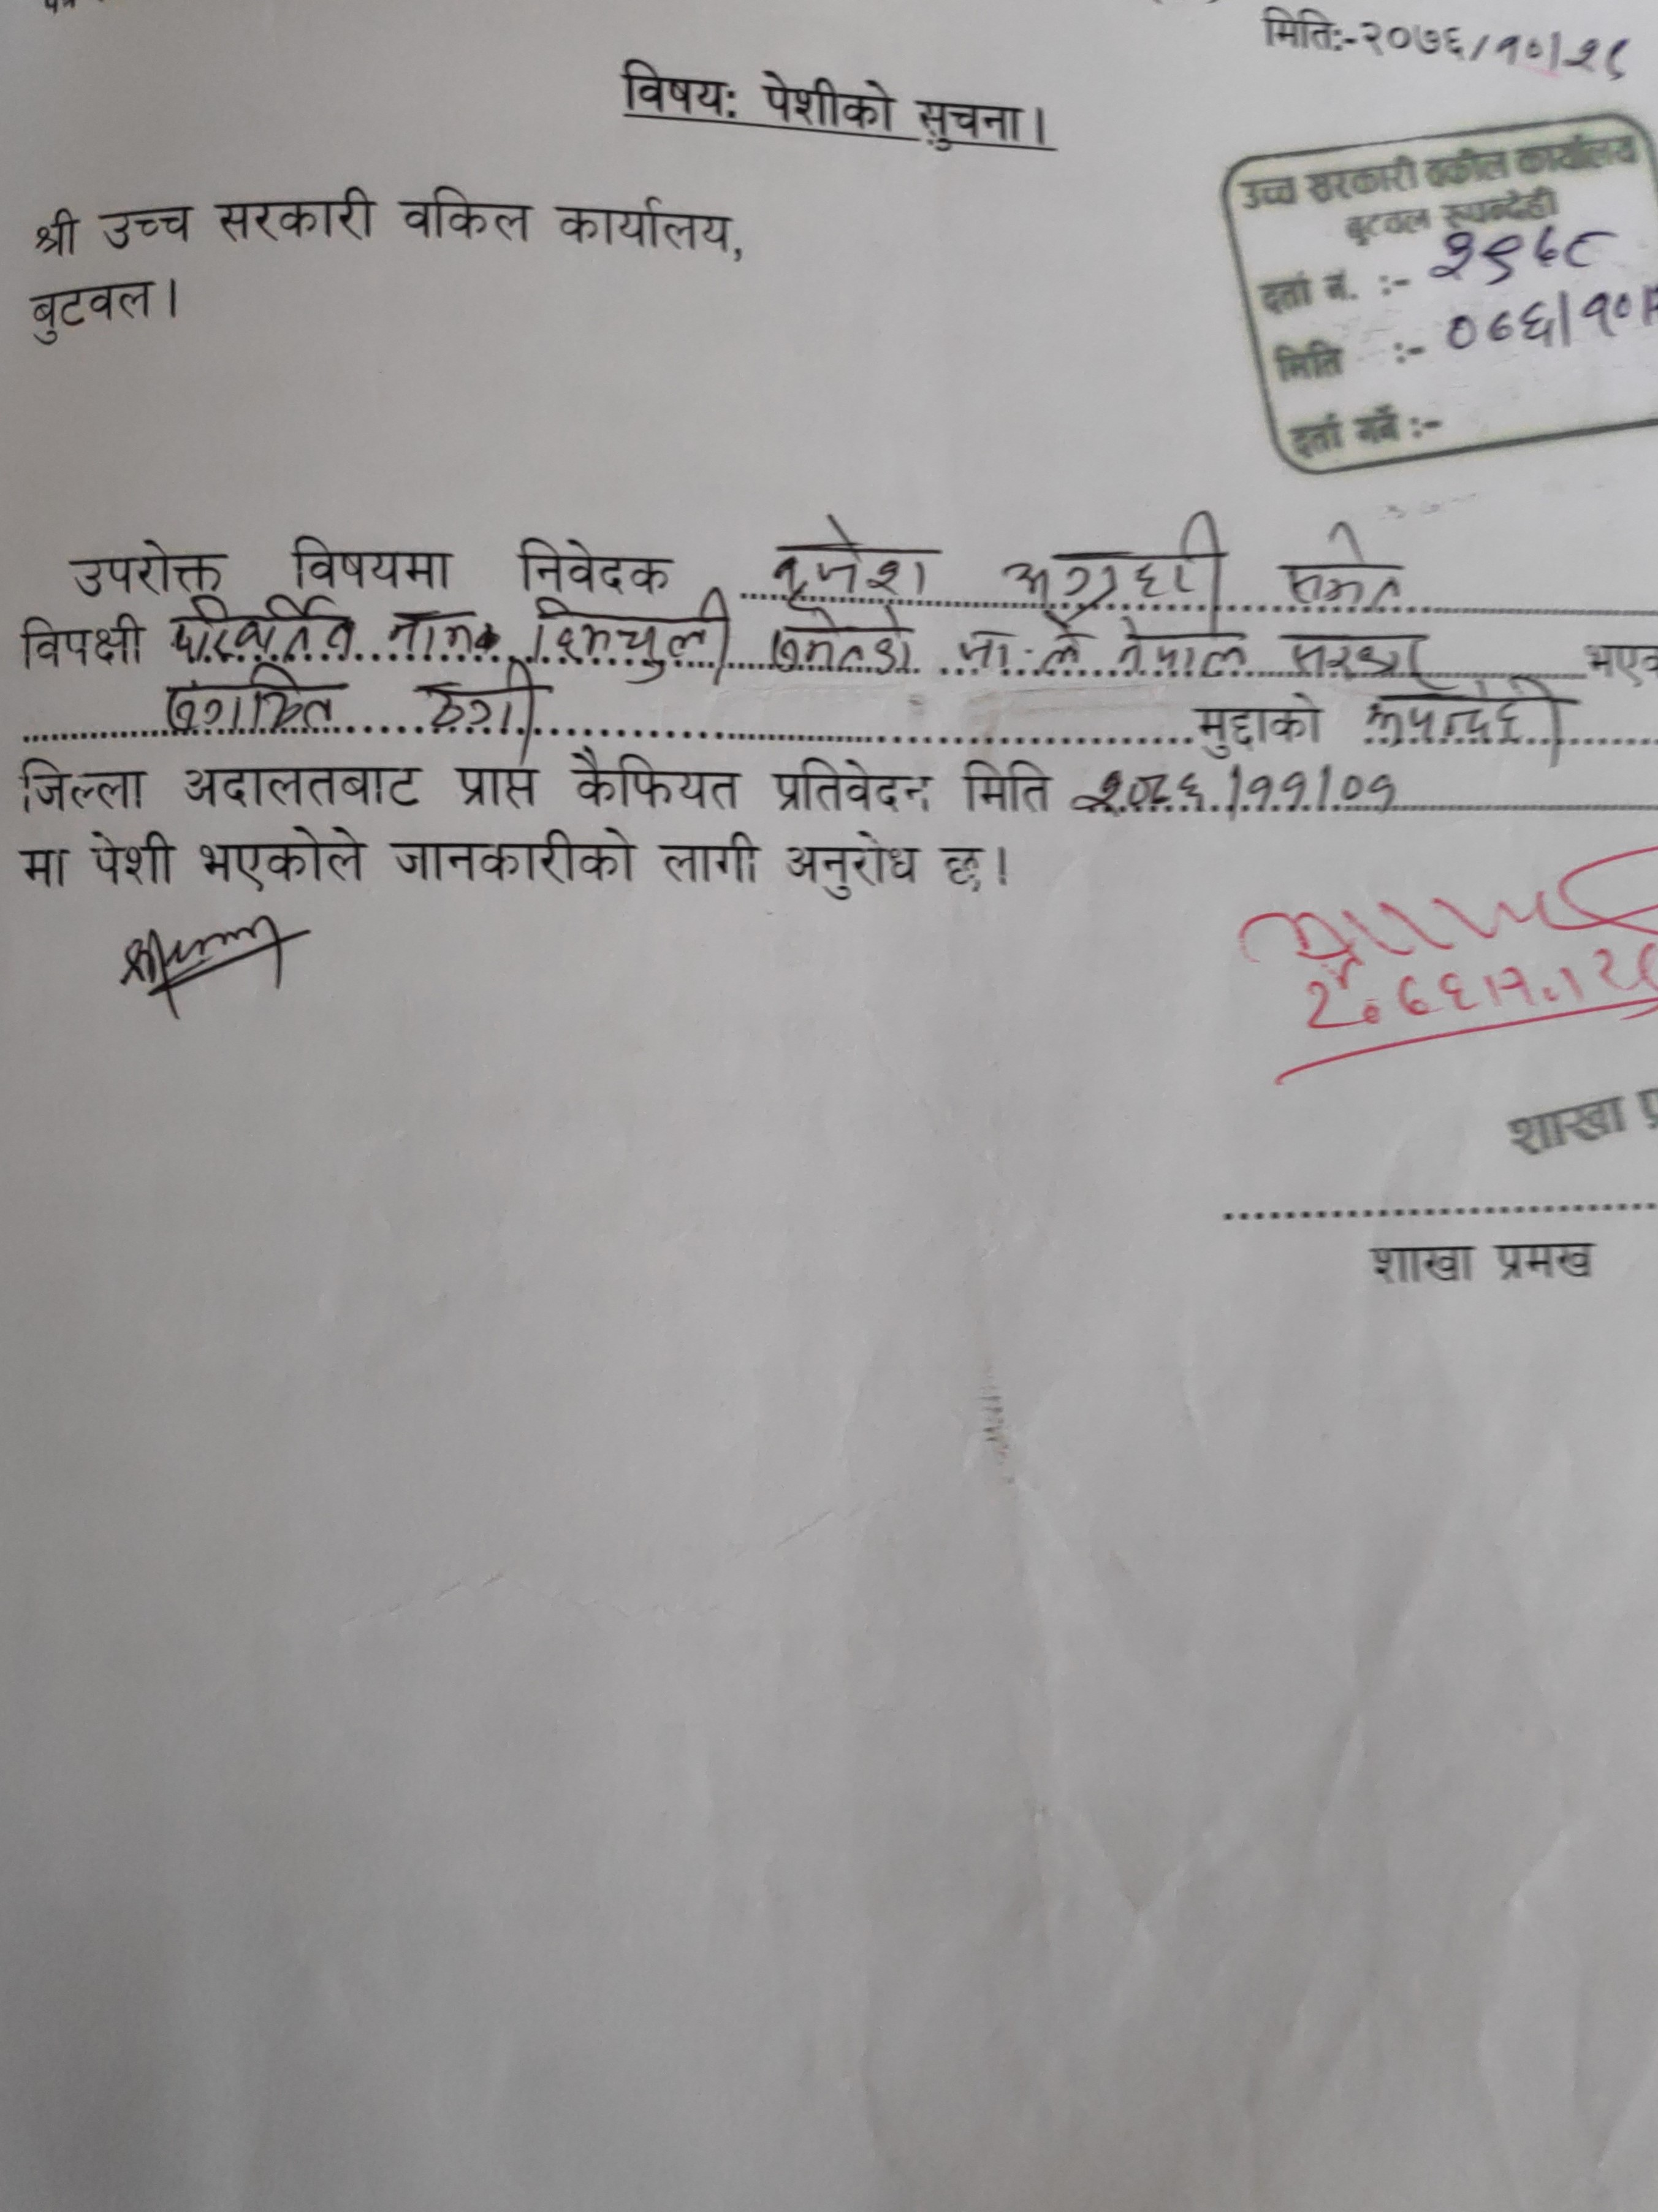text: (1001, 507, 1228, 608), (528, 587, 737, 690), (1364, 674, 1569, 768), (1064, 758, 1411, 813), (759, 516, 937, 613), (164, 594, 362, 665), (759, 604, 920, 690), (158, 664, 341, 733), (1285, 622, 1459, 693), (1280, 519, 1407, 617), (421, 657, 547, 752), (1106, 613, 1259, 688), (1423, 232, 1611, 286), (942, 608, 1088, 676), (1437, 298, 1559, 359), (378, 601, 479, 657), (1566, 33, 1637, 87), (1493, 31, 1548, 70)
